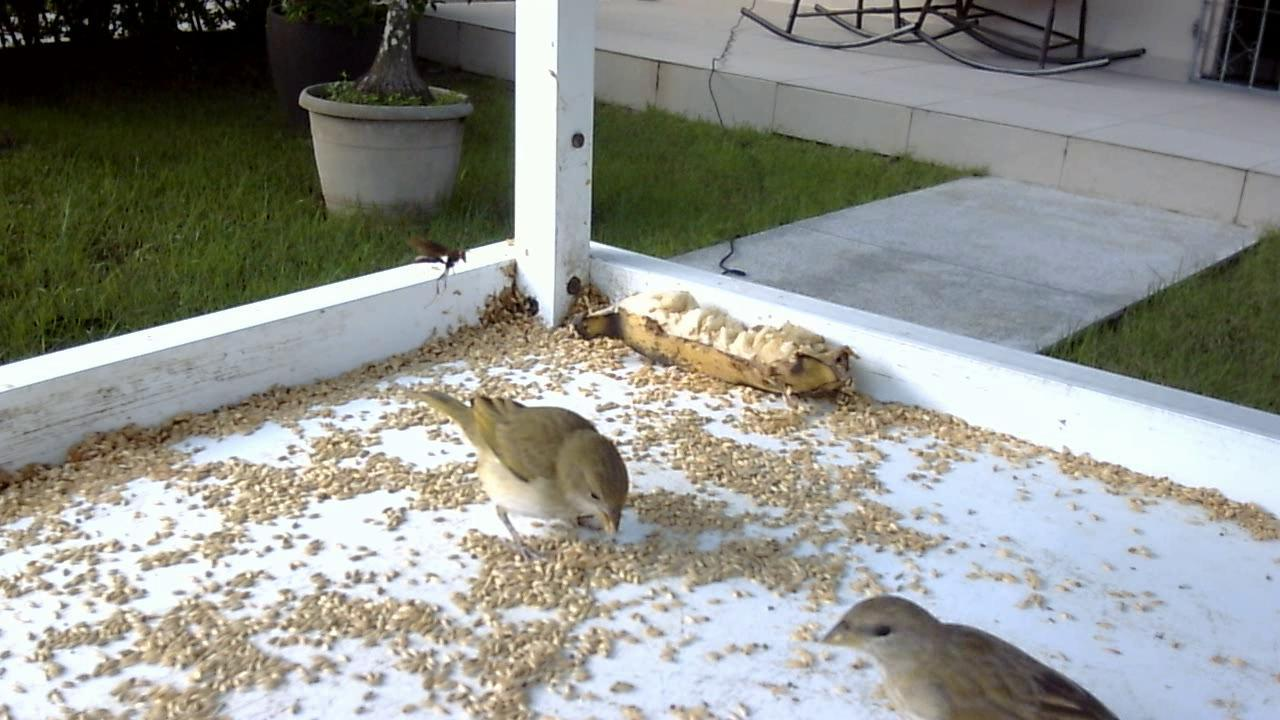canario_do_amazonas: (400, 382, 632, 560), (818, 592, 1130, 716)
